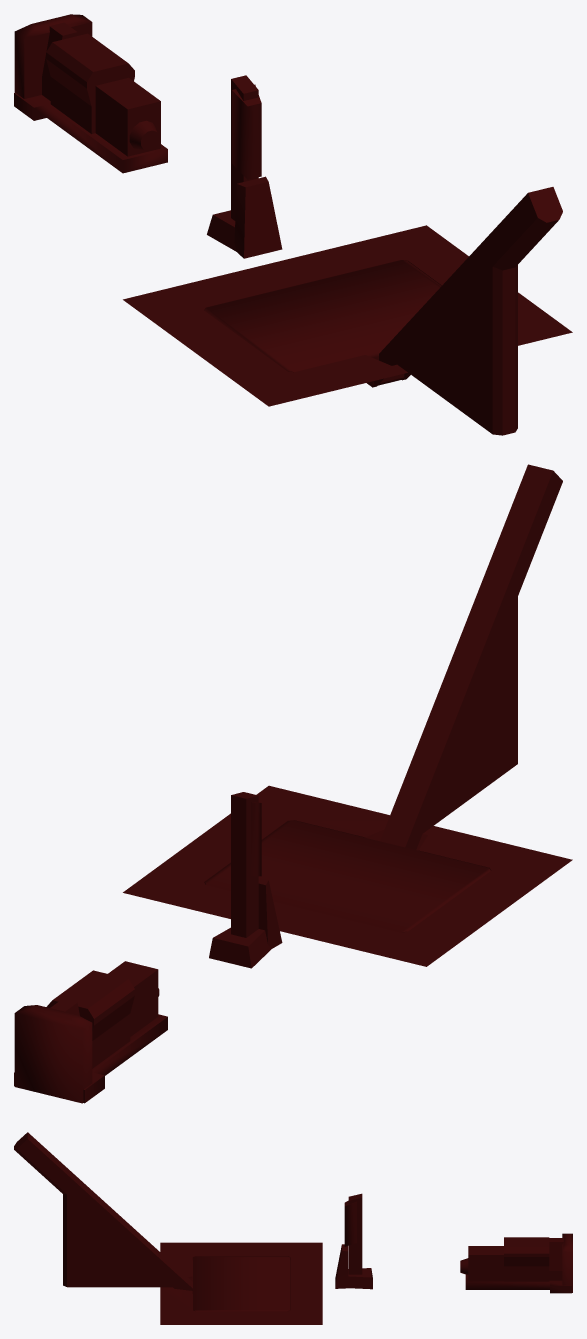
Rendered from ShakeDemo_Physics.fbx.
The picture shows the model from 3 angles, top to bottom: view 1: azimuth 30°, elevation 25°; view 2: azimuth 150°, elevation 25°; view 3: azimuth 270°, elevation 25°; orthographic projection. The views are drawn at different scales.
Parts seen in each view (by area): view 1: ShakeDemo_Physics_LiftBase, ShakeDemo_Physics_IndustrialGenerator, ShakeDemo_Physics_LiftPlatform, ShakeDemo_Physics_Thumper; view 2: ShakeDemo_Physics_LiftBase, ShakeDemo_Physics_LiftPlatform, ShakeDemo_Physics_IndustrialGenerator, ShakeDemo_Physics_Thumper; view 3: ShakeDemo_Physics_LiftBase, ShakeDemo_Physics_IndustrialGenerator, ShakeDemo_Physics_LiftPlatform, ShakeDemo_Physics_Thumper.
Part boxes in pixels (x1,y1,x2,y2): ShakeDemo_Physics_LiftBase: (123,187,572,435); ShakeDemo_Physics_IndustrialGenerator: (14,14,167,173); ShakeDemo_Physics_LiftPlatform: (204,260,441,385); ShakeDemo_Physics_Thumper: (207,75,282,258); ShakeDemo_Physics_LiftBase: (123,464,572,966); ShakeDemo_Physics_LiftPlatform: (204,820,490,932); ShakeDemo_Physics_IndustrialGenerator: (14,961,167,1103); ShakeDemo_Physics_Thumper: (209,792,282,968); ShakeDemo_Physics_LiftBase: (14,1132,322,1324); ShakeDemo_Physics_IndustrialGenerator: (460,1233,572,1293); ShakeDemo_Physics_LiftPlatform: (193,1256,290,1311); ShakeDemo_Physics_Thumper: (335,1193,372,1289).
Bounding box in the file's own units: 1200 × 1147 × 3447.
